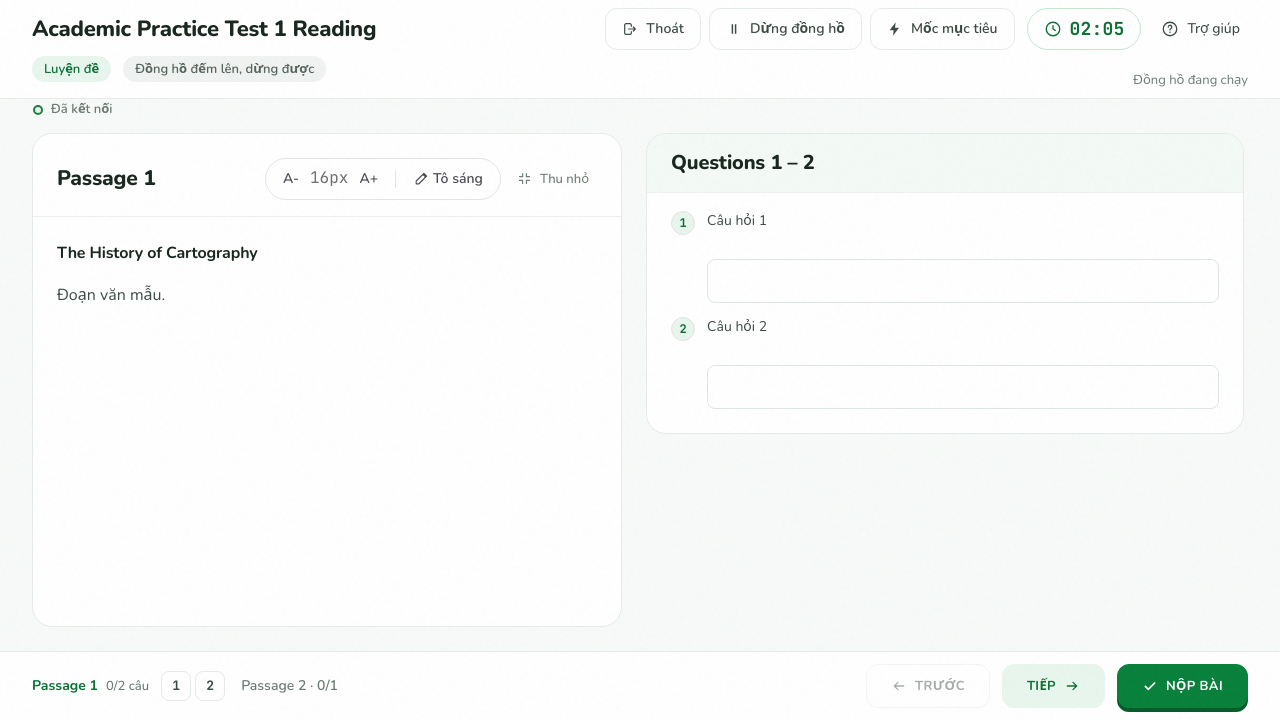
Scenario: confirms a submit in a card, with Cancel holding the keyboard
Expected: the heading "The History of Cartography" is shown, [57,242,258,264]
Click the button "NỘP BÀI" at (1182, 686), box [1117,664,1248,708]
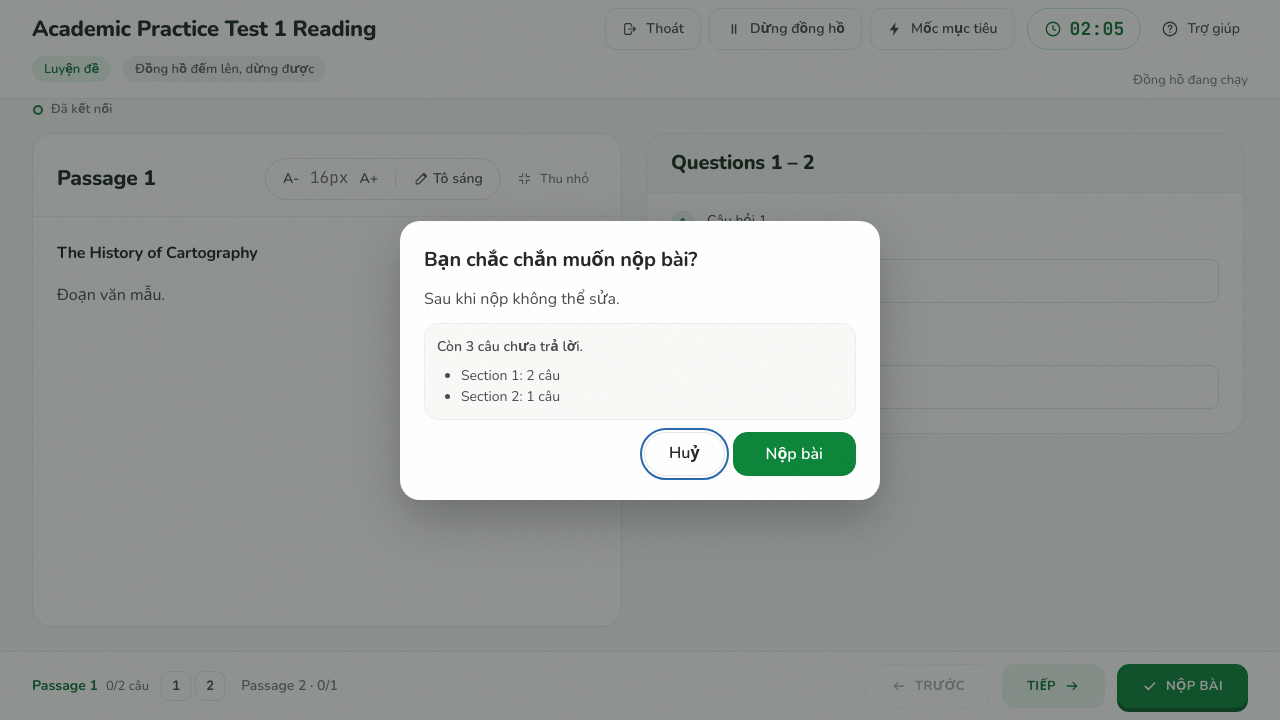
Result: the heading "Bạn chắc chắn muốn nộp bài?" is shown at [424,246,697,272]
Result: the text "Sau khi nộp không thể sửa." is shown at [424,288,620,310]
Result: the message shows "Còn 3 câu chưa trả lời." at [437,336,583,356]
// Dismissible, and dismissing submits nothing.
Press Escape
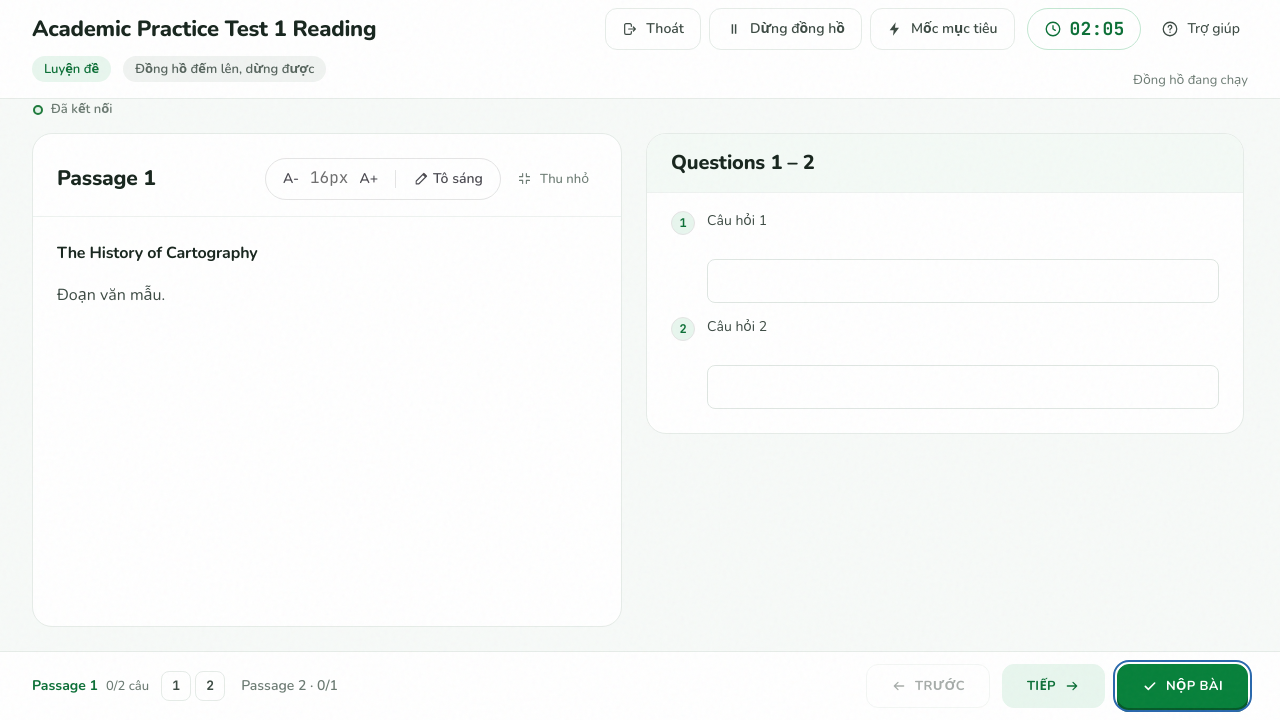
Result: the dialog is gone
